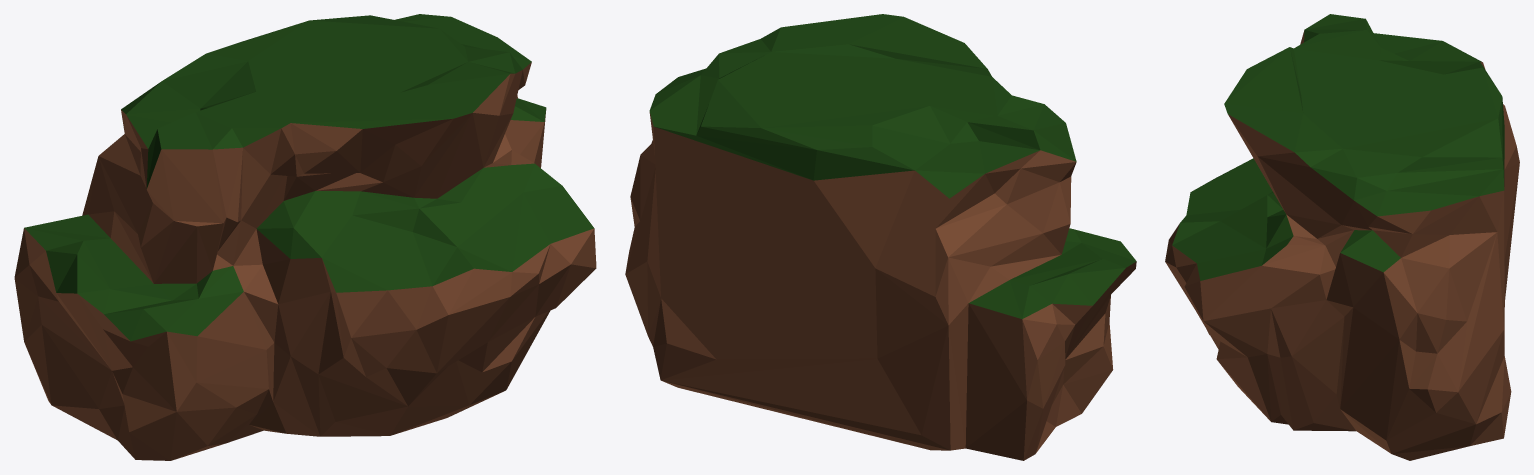
File: SM_cliff_grass_04.fbx
3 renders of one model, left to right at view 1: azimuth 30°, elevation 25°; view 2: azimuth 150°, elevation 25°; view 3: azimuth 270°, elevation 25°, orthographic. The views are drawn at different scales.
Parts seen in each view (by area): view 1: cliff_grass_04; view 2: cliff_grass_04; view 3: cliff_grass_04.
Boxes of the visible parts, x1,y1,x2,y2 form: cliff_grass_04: [14, 14, 596, 460]; cliff_grass_04: [625, 14, 1136, 460]; cliff_grass_04: [1165, 14, 1519, 460].
Size of the model in its own units: 3305 by 2142 by 2235.
